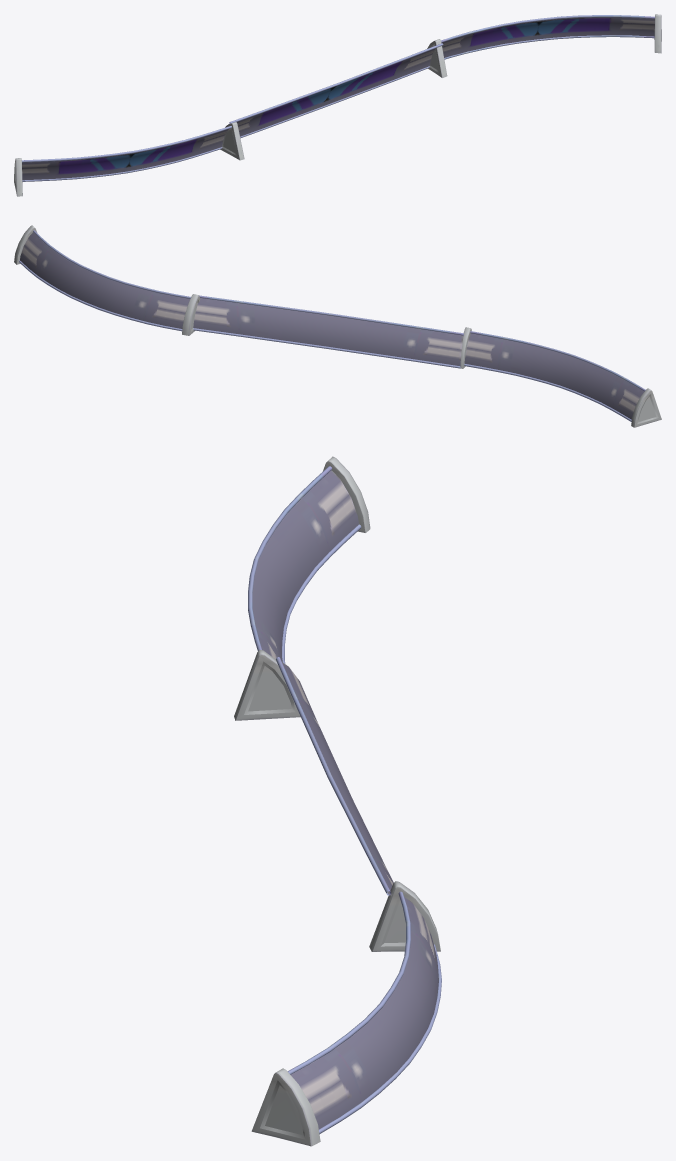
File: pref_sm_beach_winter_crowd_barrierR_01_lv3.fbx
3 views of the same model, one above another, from view 1: azimuth 30°, elevation 25°; view 2: azimuth 150°, elevation 25°; view 3: azimuth 270°, elevation 25° (orthographic). The views are drawn at different scales.
Visible parts, largest first — view 1: pref_sm_beach_winter_crowd_barrierR_01_lv3; view 2: pref_sm_beach_winter_crowd_barrierR_01_lv3; view 3: pref_sm_beach_winter_crowd_barrierR_01_lv3.
Part boxes in pixels (x1,y1,x2,y2): pref_sm_beach_winter_crowd_barrierR_01_lv3: (14, 14, 661, 196); pref_sm_beach_winter_crowd_barrierR_01_lv3: (14, 225, 661, 427); pref_sm_beach_winter_crowd_barrierR_01_lv3: (234, 456, 441, 1146).
Bounding box in the file's own units: 25.47 × 1.23 × 3.56.
